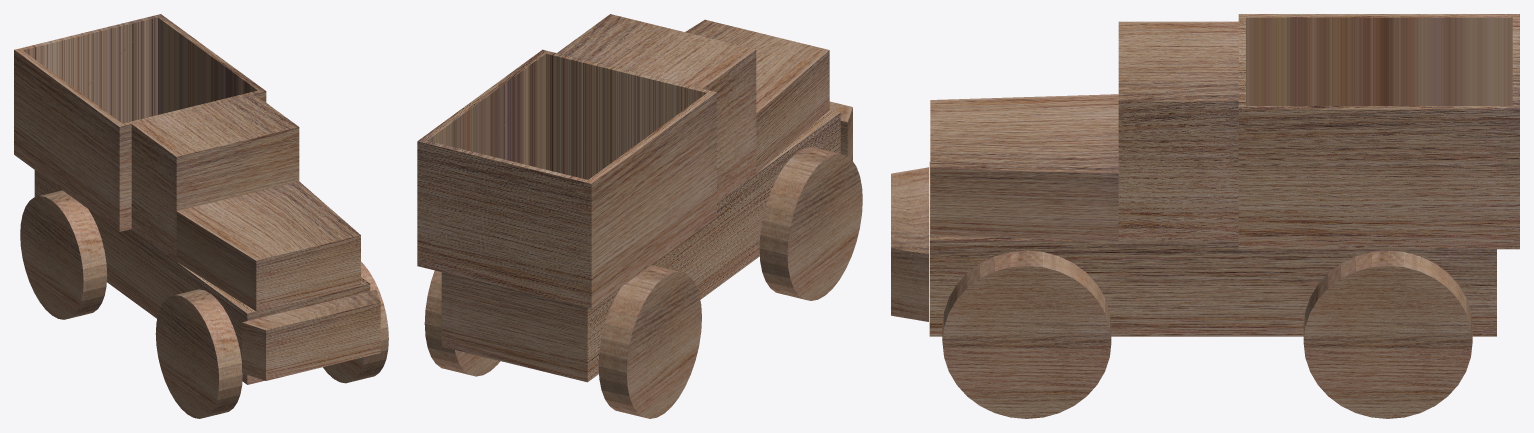
File: truck_asset.fbx
The picture shows the model from 3 angles, left to right: view 1: azimuth 30°, elevation 25°; view 2: azimuth 150°, elevation 25°; view 3: azimuth 270°, elevation 25°; orthographic projection. The views are drawn at different scales.
Visible parts, largest first — view 1: Truck; view 2: Truck; view 3: Truck.
Part boxes in pixels (<box>): Truck: <box>14,14,388,418</box>; Truck: <box>417,14,862,418</box>; Truck: <box>891,14,1519,418</box>.
Bounding box in the file's own units: 277 × 352 × 665.
Materials: 1 (1 with a texture image).
